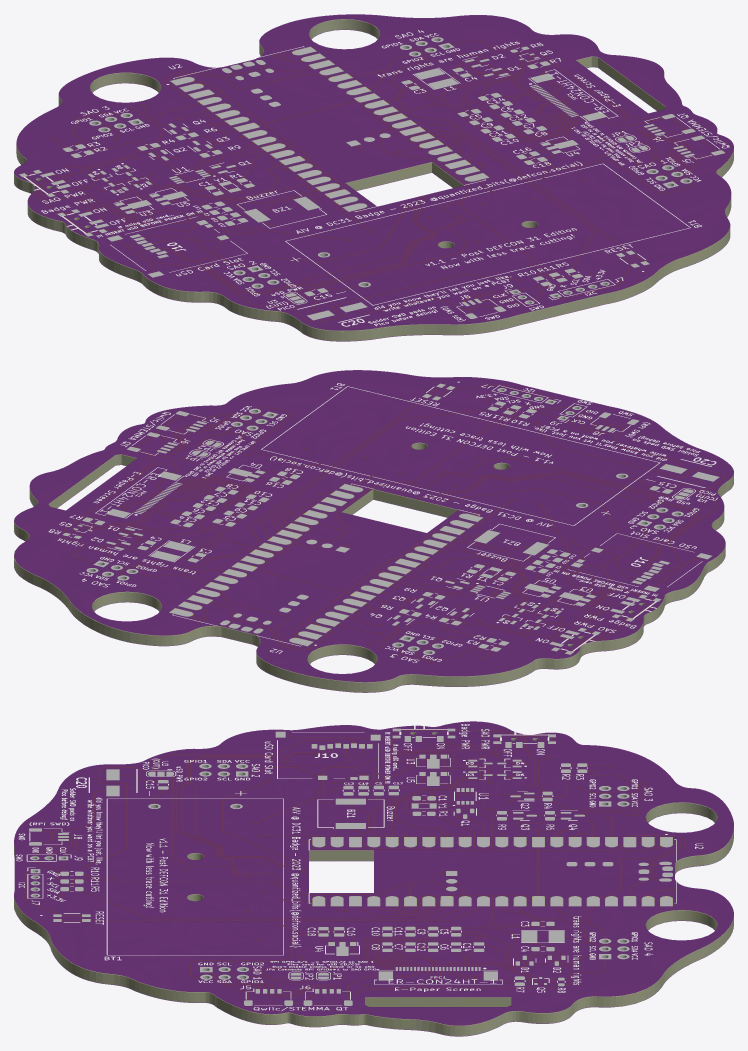
File: ai-village-defcon31-badge.glb
3 views of the same model, one above another, from view 1: azimuth 30°, elevation 25°; view 2: azimuth 150°, elevation 25°; view 3: azimuth 270°, elevation 25° (orthographic). The views are drawn at different scales.
Parts seen in each view (by area): view 1: =>[0:1:1:7], =>[0:1:1:9], =>[0:1:1:2], =>[0:1:1:5]; view 2: =>[0:1:1:7], =>[0:1:1:9], =>[0:1:1:2], =>[0:1:1:5]; view 3: =>[0:1:1:7], =>[0:1:1:9], =>[0:1:1:2], =>[0:1:1:5].
Part boxes in pixels (x1=…): =>[0:1:1:7]: x1=14, y1=14, x2=733, y2=341; =>[0:1:1:9]: x1=14, y1=15, x2=733, y2=341; =>[0:1:1:2]: x1=19, y1=37, x2=724, y2=322; =>[0:1:1:5]: x1=24, y1=30, x2=729, y2=326; =>[0:1:1:7]: x1=14, y1=370, x2=733, y2=692; =>[0:1:1:9]: x1=14, y1=371, x2=733, y2=692; =>[0:1:1:2]: x1=62, y1=383, x2=725, y2=663; =>[0:1:1:5]: x1=32, y1=381, x2=717, y2=662; =>[0:1:1:7]: x1=14, y1=721, x2=733, y2=1036; =>[0:1:1:9]: x1=14, y1=722, x2=733, y2=1036; =>[0:1:1:2]: x1=26, y1=728, x2=685, y2=1005; =>[0:1:1:5]: x1=16, y1=724, x2=703, y2=1011.
Bounding box in the file's own units: 0.1 × 0.00172 × 0.1.
4 materials, 4 textured.
